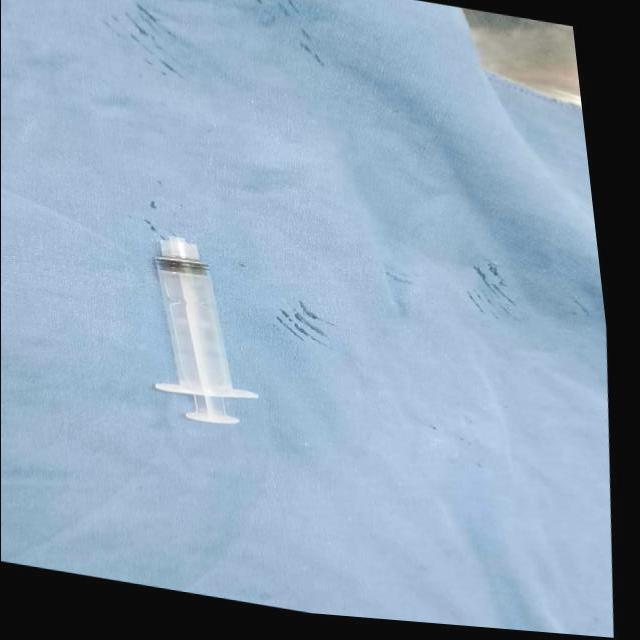Sharps: (149, 231, 259, 426)
